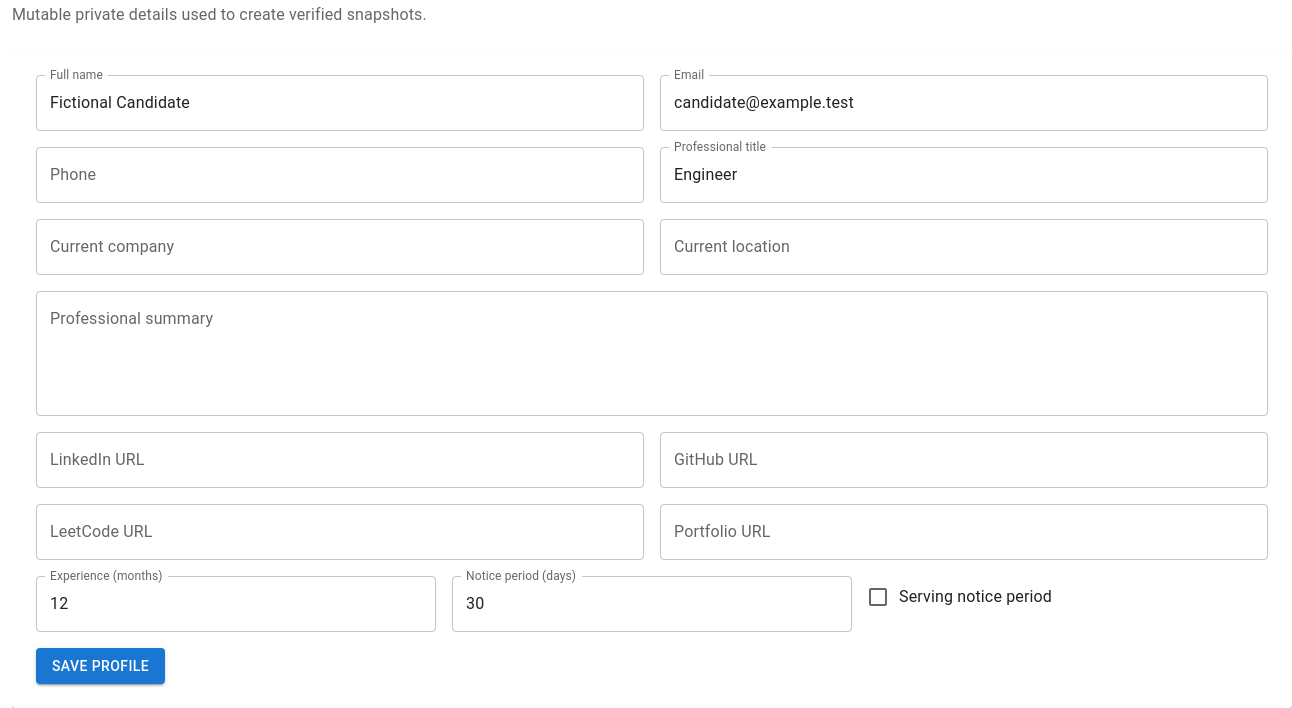
Test: Phase 2 pages › shows the backend profile validation message
(page scrolled)
Expected: the field showing "Fictional Candidate" is shown, [36,75,644,131]
Click the button "Save profile": {"x": 100, "y": 666} [36,648,165,684]
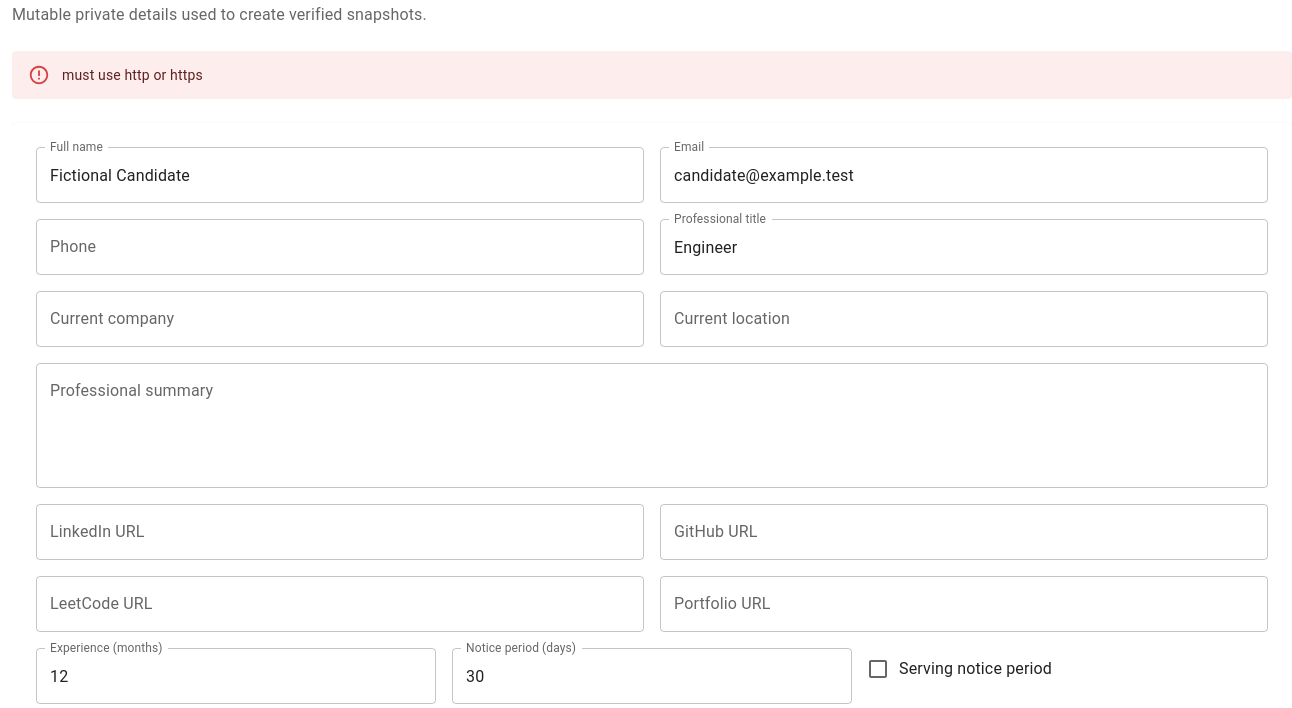
Result: the text "must use http or https" is shown at [62,67,203,83]
